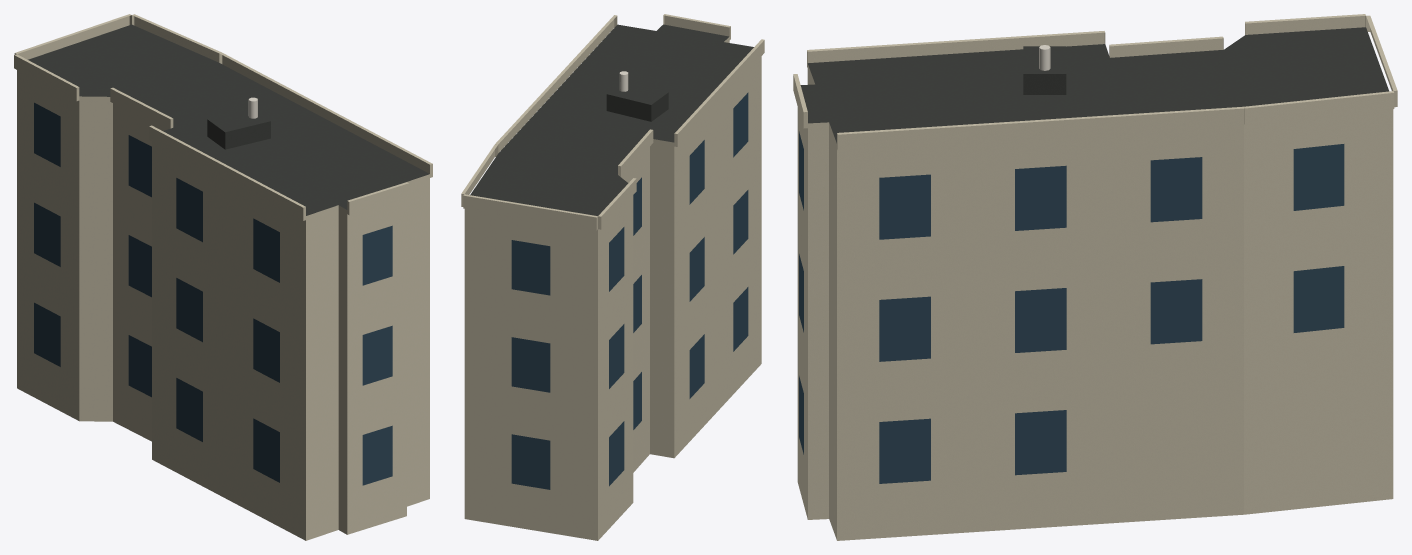
The picture shows the model from 3 angles, left to right: view 1: azimuth 30°, elevation 25°; view 2: azimuth 150°, elevation 25°; view 3: azimuth 270°, elevation 25°; orthographic projection. The views are drawn at different scales.
Parts seen in each view (by area): view 1: Footprint 0 / surface 2, Footprint 0 / surface 1, Inset glazing, Facade bay volumes, Inferred rooftop service enclosure / surface 5, Inferred rooftop service enclosure / surface 3; view 2: Footprint 0 / surface 2, Footprint 0 / surface 1, Inset glazing, Facade bay volumes, Inferred rooftop service enclosure / surface 6, Inferred rooftop service enclosure / surface 3; view 3: Footprint 0 / surface 2, Footprint 0 / surface 1, Inset glazing, Facade bay volumes, Inferred rooftop service enclosure / surface 3, Inferred rooftop service enclosure / surface 1.
Boxes of the visible parts, left/top/right/bottom form: Footprint 0 / surface 2: left=17, top=70, right=429, bottom=540; Footprint 0 / surface 1: left=28, top=24, right=429, bottom=215; Inset glazing: left=34, top=102, right=392, bottom=485; Facade bay volumes: left=14, top=14, right=432, bottom=220; Inferred rooftop service enclosure / surface 5: left=225, top=121, right=270, bottom=149; Inferred rooftop service enclosure / surface 3: left=208, top=109, right=270, bottom=132; Footprint 0 / surface 2: left=464, top=37, right=761, bottom=540; Footprint 0 / surface 1: left=470, top=24, right=753, bottom=215; Inset glazing: left=511, top=92, right=748, bottom=489; Facade bay volumes: left=461, top=14, right=764, bottom=230; Inferred rooftop service enclosure / surface 6: left=606, top=94, right=651, bottom=121; Inferred rooftop service enclosure / surface 3: left=607, top=82, right=667, bottom=104; Footprint 0 / surface 2: left=797, top=64, right=1393, bottom=540; Footprint 0 / surface 1: left=800, top=27, right=1388, bottom=143; Inset glazing: left=799, top=131, right=1344, bottom=483; Facade bay volumes: left=793, top=14, right=1397, bottom=150; Inferred rooftop service enclosure / surface 3: left=1023, top=46, right=1066, bottom=73; Inferred rooftop service enclosure / surface 1: left=1023, top=74, right=1066, bottom=94.
Bounding box in the file's own units: 7.94 × 13.46 × 16.79.
